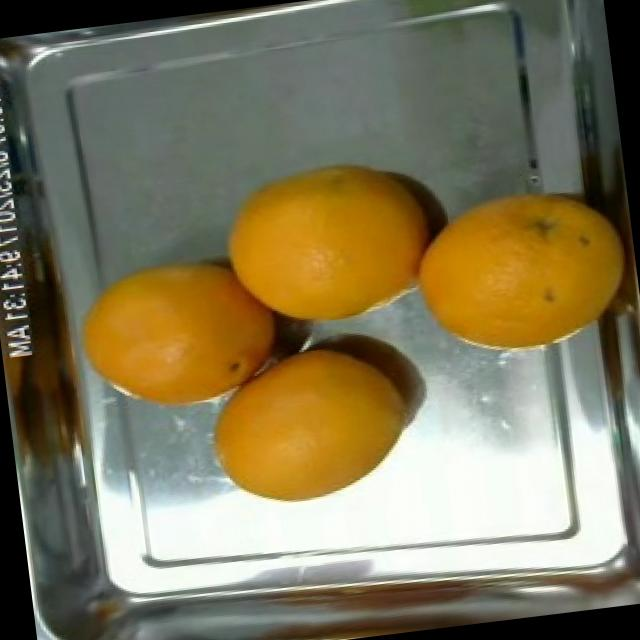Fruit: (179, 323, 417, 522), (57, 231, 278, 430)
